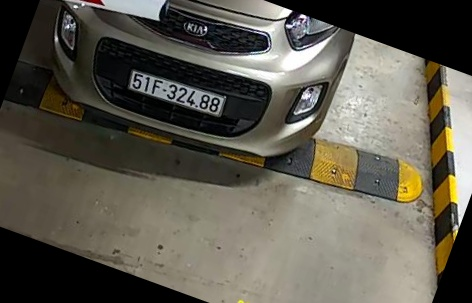plate: (115, 64, 238, 118)
